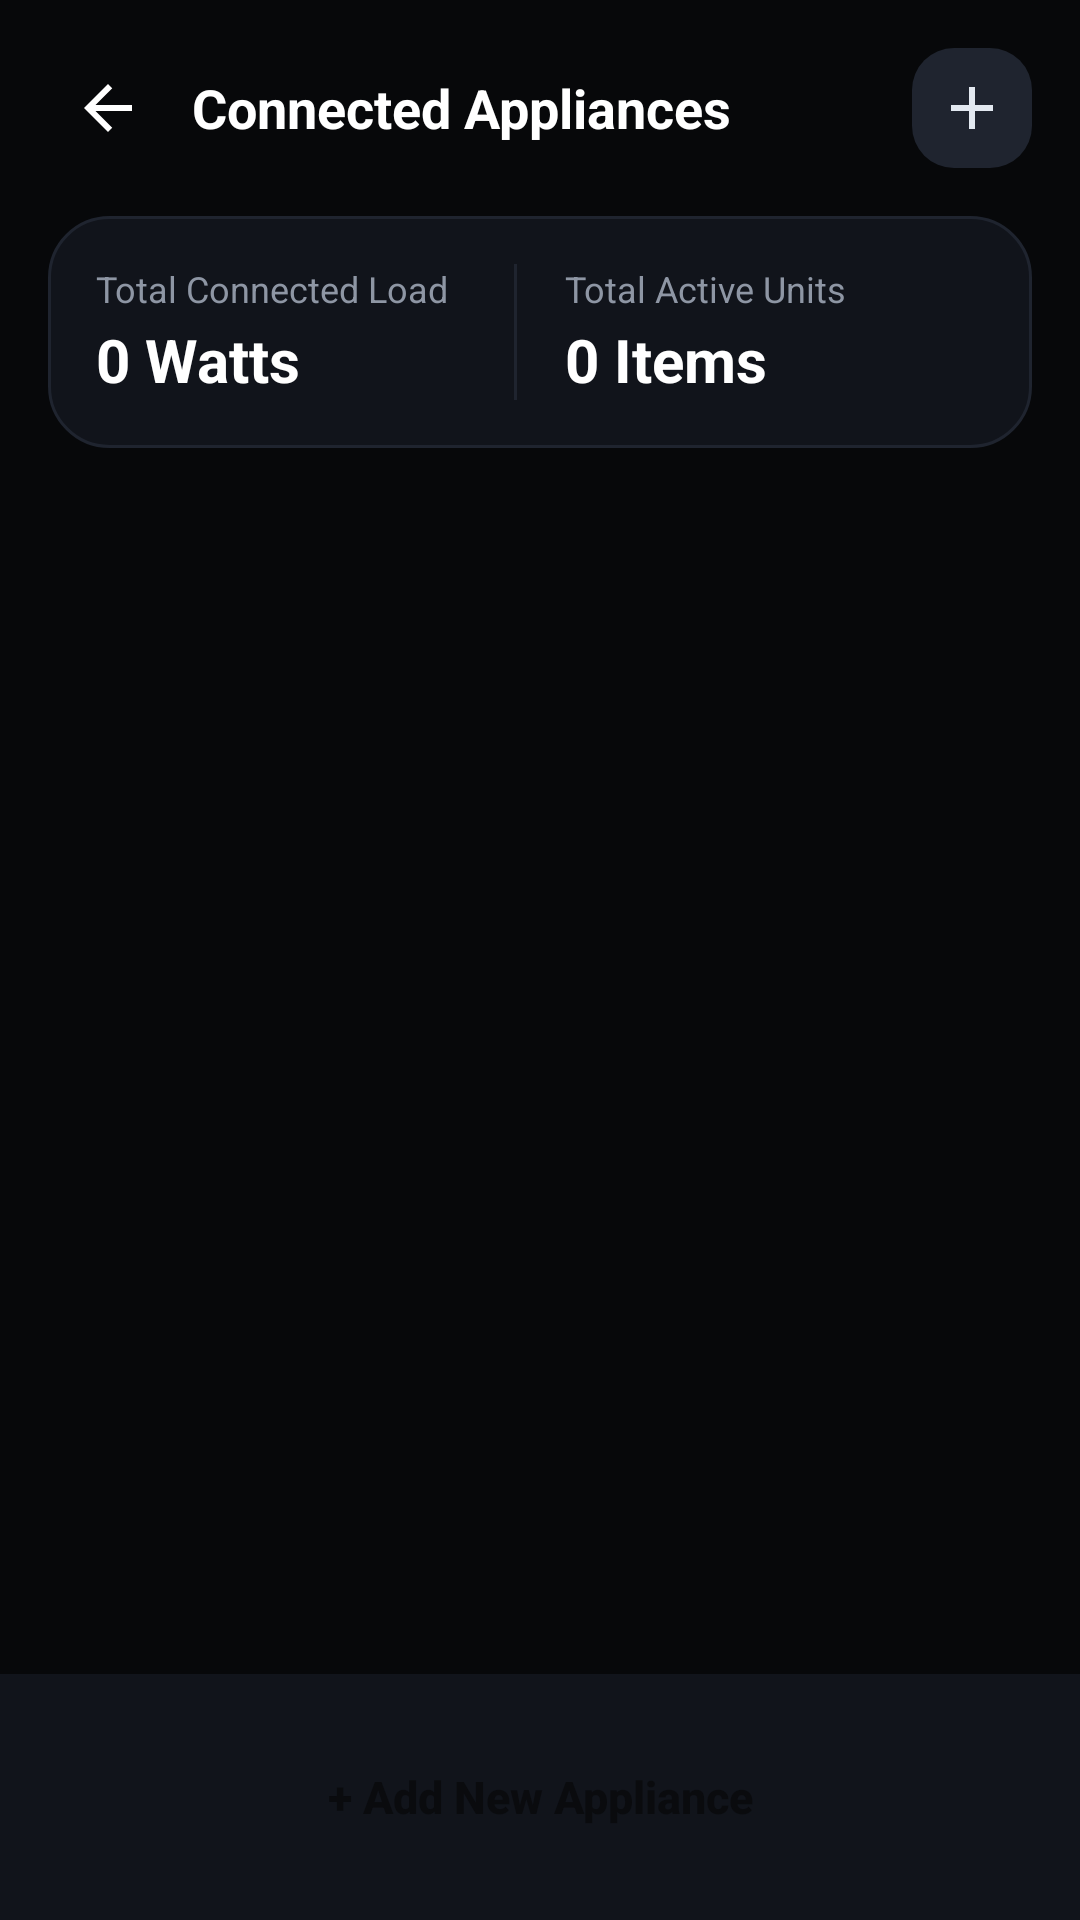

Icon click points for this 1080 x 1920 phone screenshot, format [x,y]:
add: [972,108]
arrow back: [108,108]
